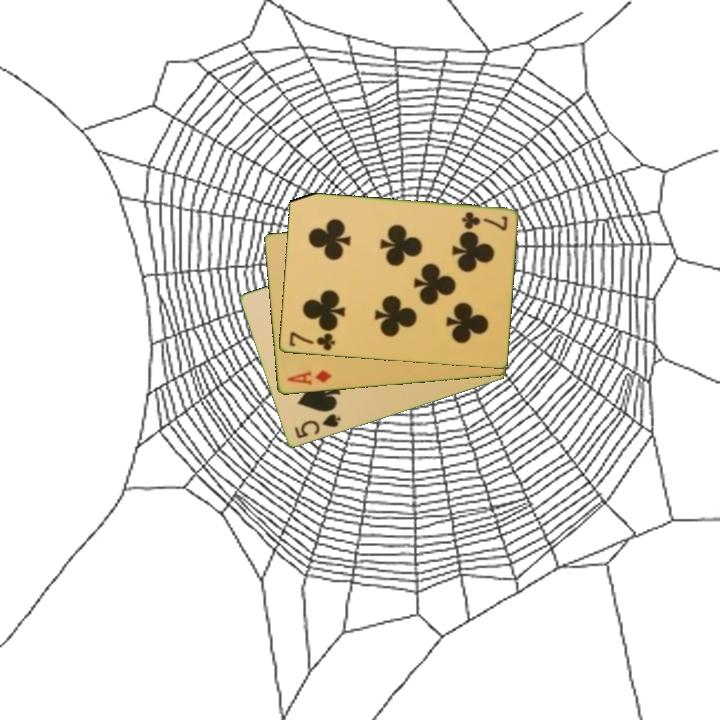5s: (291, 410, 344, 442)
7c: (285, 328, 338, 354), (458, 208, 510, 234)
Ad: (283, 367, 334, 388)
